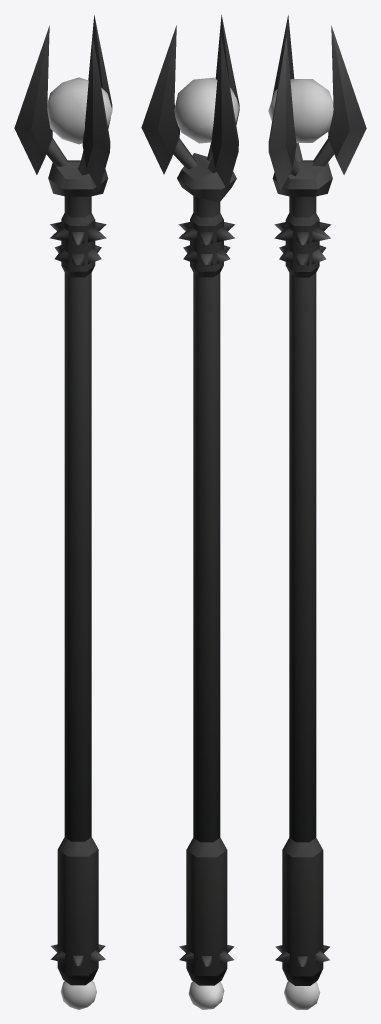
Rendered from Staff2h_21.fbx.
3 views of the same model, side by side, from view 1: azimuth 90°, elevation 25°; view 2: azimuth 210°, elevation 25°; view 3: azimuth 270°, elevation 25° (orthographic).
Parts seen in each view (by area): view 1: Staff2h_21; view 2: Staff2h_21; view 3: Staff2h_21.
Boxes of the visible parts, left/top/right/bottom form: Staff2h_21: left=14, top=15, right=112, bottom=1009; Staff2h_21: left=141, top=15, right=239, bottom=1009; Staff2h_21: left=268, top=15, right=366, bottom=1009.
Size of the model in its own units: 17.51 by 170 by 15.38.
